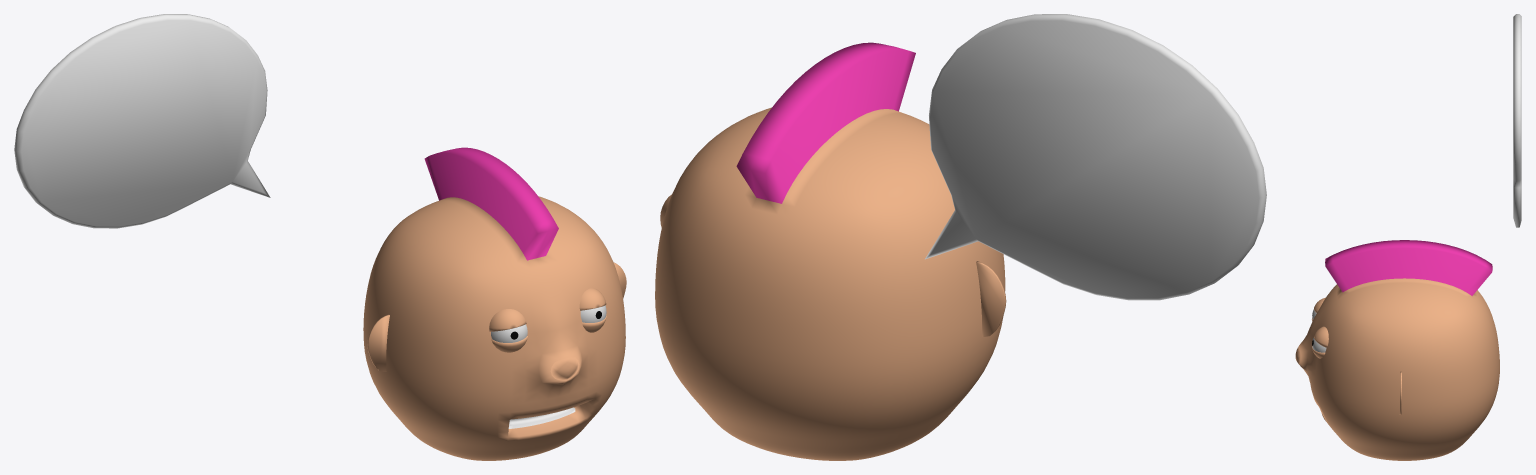
File: keyshapetest1.glb
3 views of the same model, side by side, from view 1: azimuth 30°, elevation 25°; view 2: azimuth 150°, elevation 25°; view 3: azimuth 270°, elevation 25° (orthographic). The views are drawn at different scales.
Visible parts, largest first — view 1: head, bubble, eyes; view 2: head, bubble; view 3: head, bubble, eyes.
Part boxes in pixels (<box>): head: <box>363,147,626,460</box>; bubble: <box>14,14,270,228</box>; eyes: <box>489,288,606,352</box>; head: <box>655,42,1006,460</box>; bubble: <box>925,14,1266,300</box>; head: <box>1295,240,1499,460</box>; bubble: <box>1513,14,1521,227</box>; eyes: <box>1311,297,1328,358</box>.
Size of the model in its own units: 4.24 by 3.29 by 2.11.
